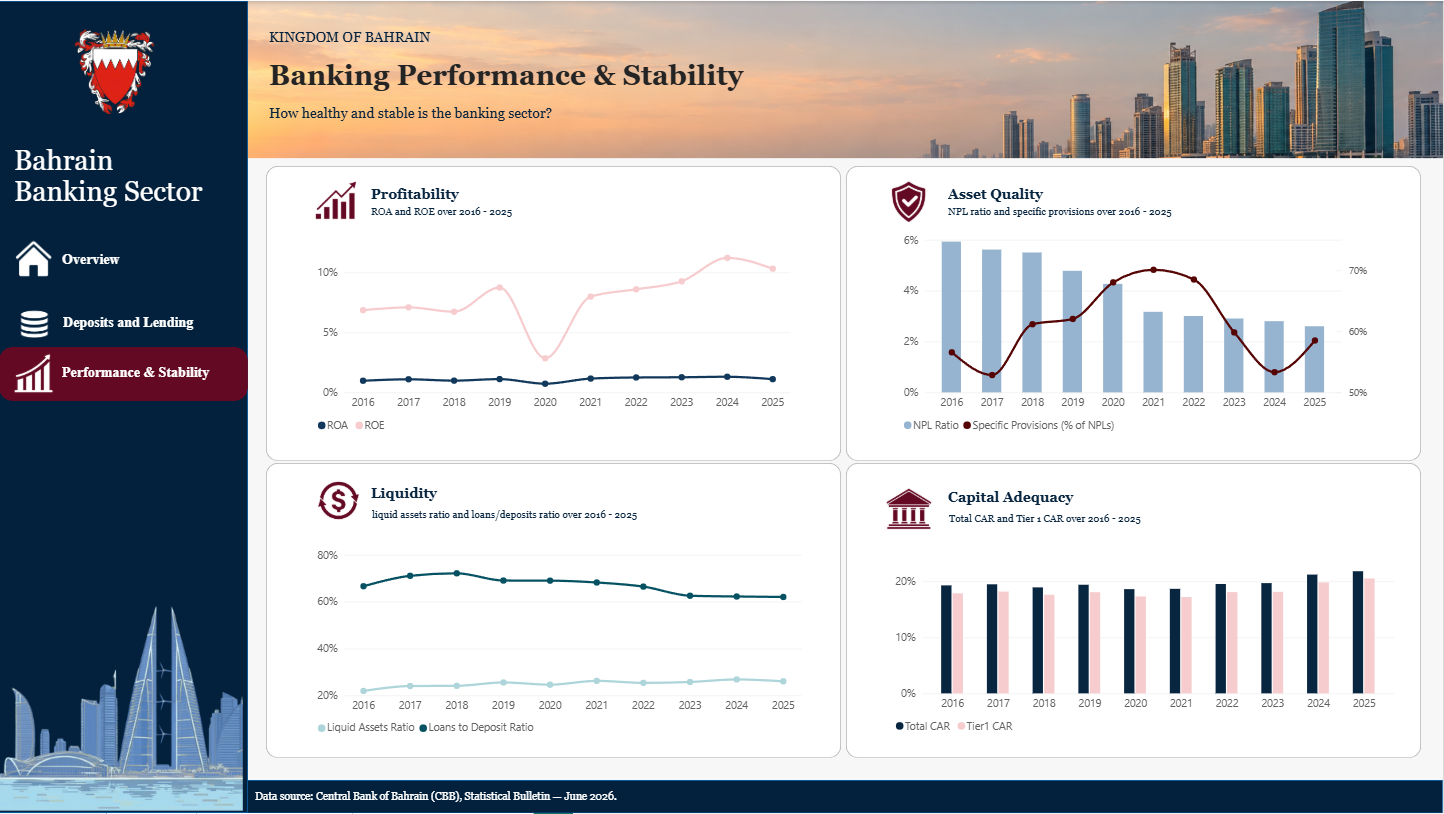

This screenshot's page, from the dashboard's own definition file:
{"tool":"powerbi","page":{"name":"Performance and Stability","canvas":[1920,1080],"ordinal":2},"visuals":[{"type":"shape","box":[0,1035.6,1920.3,44.4],"z":0},{"type":"image","box":[316.2,0,1603.8,208.7],"z":1000},{"type":"shape","box":[0,0,331.2,1079.6],"z":2000},{"type":"image","box":[33.3,0,244.7,190.2],"z":3000},{"type":"textbox","box":[20.2,189.9,320.5,102.3],"z":4000},{"type":"image","box":[20.2,311.1,52.5,61.9],"z":5000},{"type":"shape","box":[0,460.2,331.2,71.8],"z":6000},{"type":"image","box":[20.2,405.3,52.5,45.8],"z":7000},{"type":"image","box":[10.8,464.6,72.7,61.9],"z":8000},{"type":"textbox","box":[83.5,332.6,106.4,35],"z":10000},{"type":"textbox","box":[84.8,416.1,193.9,35],"z":11000},{"type":"textbox","box":[83.8,482.8,210.1,57.2],"z":12000},{"type":"image","box":[0,787.8,331.2,291.8],"z":14000},{"type":"textbox","box":[359.1,37.2,663.7,184.9],"z":15000},{"type":"shape","box":[355.1,219.5,764.8,392.4],"z":16000},{"type":"shape","box":[1126.6,219.5,764.8,392.4],"z":17000},{"type":"shape","box":[355,614.5,764.8,392.4],"z":18000},{"type":"shape","box":[1126,614.5,764.8,392.4],"z":19000},{"type":"lineChart","fields":{"Category":["Page3_Performance.Year"],"Y":["Page3_Performance.ROA Display %","Page3_Performance.ROE Display %"]},"box":[407,305.9,662.4,288.6],"z":20000},{"type":"textbox","box":[494.8,246.1,438.9,46.6],"z":21000},{"type":"image","box":[415,222.1,65.2,83.8],"z":22000},{"type":"image","box":[407,634.4,89.1,66.5],"z":23000},{"type":"image","box":[1175.8,645.1,67.8,66.5],"z":25000},{"type":"lineClusteredColumnComboChart","fields":{"Category":["Page3_Performance.Year"],"Y":["Page3_Performance.NPL Ratio Display %"],"Y2":["Page3_Performance.Specific Provisions Display %"]},"box":[1186.4,292.6,651.7,301.9],"z":26000},{"type":"image","box":[1170.4,234.1,78.5,61.2],"z":26500},{"type":"textbox","box":[494.8,270,300.6,33.3],"z":26501},{"type":"textbox","box":[1262.2,246.1,438.9,46.6],"z":26502},{"type":"textbox","box":[1262.2,270,300.6,33.3],"z":26503},{"type":"lineChart","fields":{"Category":["Page3_Performance.Year"],"Y":["Page3_Performance.Liquid Assets Display %","Page3_Performance.Loans Deposit Display %"]},"box":[407,711.6,677,286],"z":26504},{"type":"textbox","box":[494.8,643.7,438.9,46.6],"z":26505},{"type":"textbox","box":[496.1,673,437.6,33.3],"z":26506},{"type":"textbox","box":[1262.2,649.1,438.9,46.6],"z":26507},{"type":"textbox","box":[1263.5,678.3,437.6,33.3],"z":26508},{"type":"clusteredColumnChart","fields":{"Category":["Page3_Performance.Year"],"Y":["Page3_Performance.Total CAR Display %","Page3_Performance.Tier1 CAR Display %"]},"box":[1175.8,711.6,695.6,283.3],"z":26509},{"type":"shape","box":[0,310.8,331.2,71.8],"z":26510},{"type":"shape","box":[0,392.5,331.2,71.8],"z":26511},{"type":"shape","box":[0,468.3,331.2,71.8],"z":26512},{"type":"textbox","box":[340.5,1048.1,637.1,30.6],"z":26513}]}

Visuals, with their boxes on the page's 1920x1080 design canvas (x1, y1, x2, y2). These are canvas units, not pixel positions in the 1444x814 screenshot, which may show the page scaled, cropped or inside an application window:
shape: crop(0, 1036, 1920, 1080)
image: crop(316, 0, 1920, 209)
shape: crop(0, 0, 331, 1080)
image: crop(33, 0, 278, 190)
textbox: crop(20, 190, 341, 292)
image: crop(20, 311, 73, 373)
shape: crop(0, 460, 331, 532)
image: crop(20, 405, 73, 451)
image: crop(11, 465, 84, 526)
textbox: crop(84, 333, 190, 368)
textbox: crop(85, 416, 279, 451)
textbox: crop(84, 483, 294, 540)
image: crop(0, 788, 331, 1080)
textbox: crop(359, 37, 1023, 222)
shape: crop(355, 220, 1120, 612)
shape: crop(1127, 220, 1891, 612)
shape: crop(355, 614, 1120, 1007)
shape: crop(1126, 614, 1891, 1007)
lineChart - Page3_Performance.Year x Page3_Performance.ROA Display %: crop(407, 306, 1069, 594)
textbox: crop(495, 246, 934, 293)
image: crop(415, 222, 480, 306)
image: crop(407, 634, 496, 701)
image: crop(1176, 645, 1244, 712)
lineClusteredColumnComboChart - Page3_Performance.Year x Page3_Performance.NPL Ratio Display %: crop(1186, 293, 1838, 594)
image: crop(1170, 234, 1249, 295)
textbox: crop(495, 270, 795, 303)
textbox: crop(1262, 246, 1701, 293)
textbox: crop(1262, 270, 1563, 303)
lineChart - Page3_Performance.Year x Page3_Performance.Liquid Assets Display %: crop(407, 712, 1084, 998)
textbox: crop(495, 644, 934, 690)
textbox: crop(496, 673, 934, 706)
textbox: crop(1262, 649, 1701, 696)
textbox: crop(1264, 678, 1701, 712)
clusteredColumnChart - Page3_Performance.Year x Page3_Performance.Total CAR Display %: crop(1176, 712, 1871, 995)
shape: crop(0, 311, 331, 383)
shape: crop(0, 392, 331, 464)
shape: crop(0, 468, 331, 540)
textbox: crop(340, 1048, 978, 1079)
